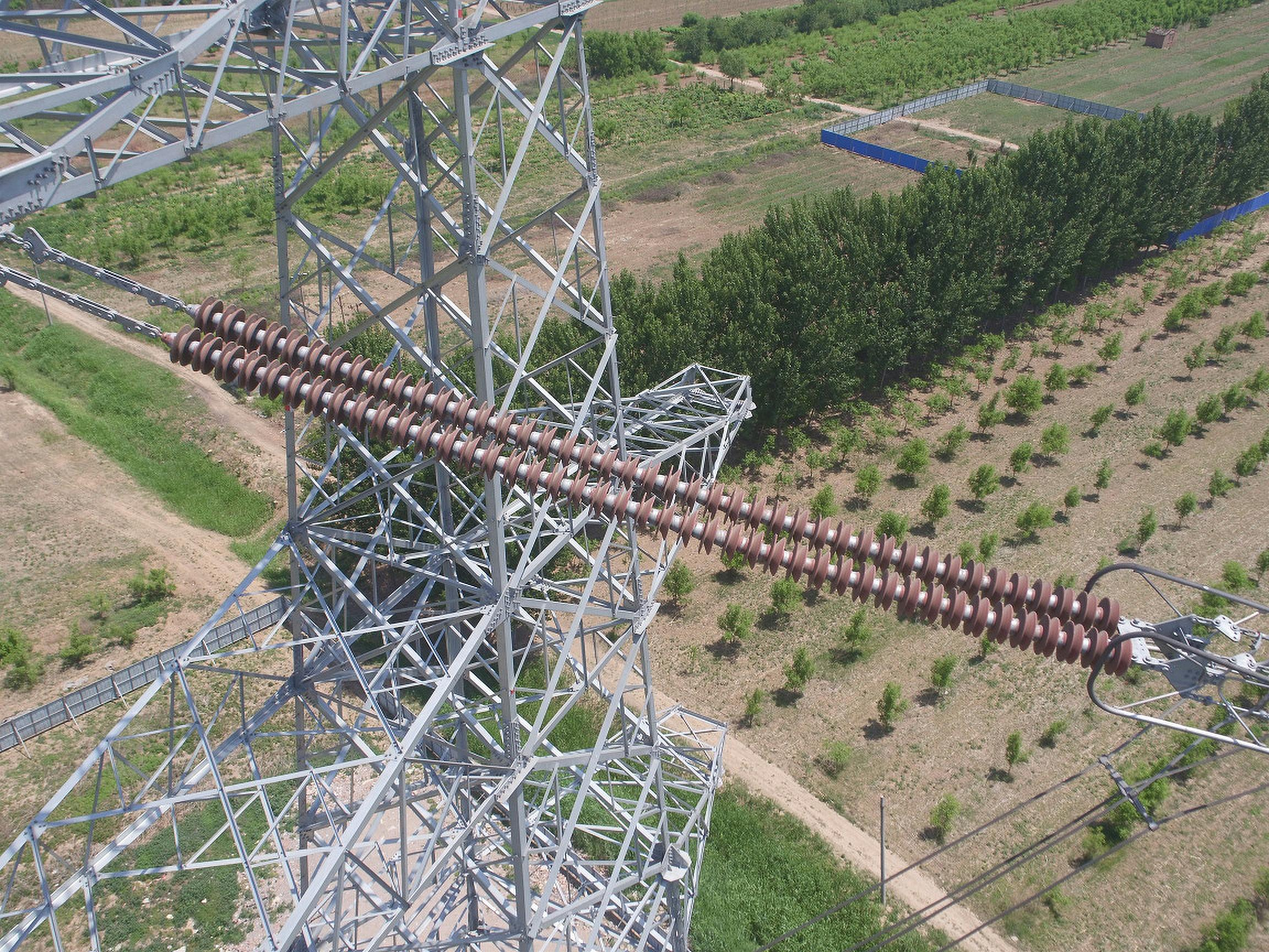insulator: (164, 290, 1137, 681)
